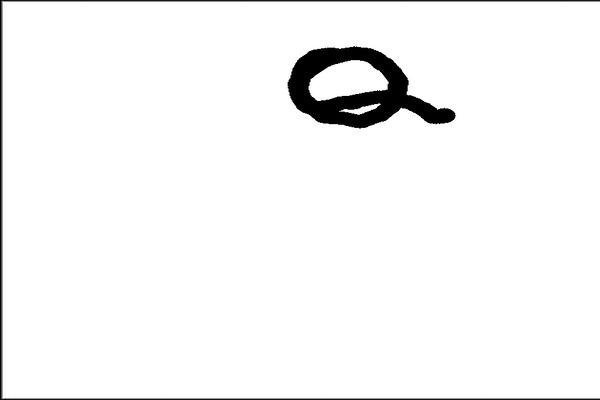Q: (274, 34, 462, 144)
